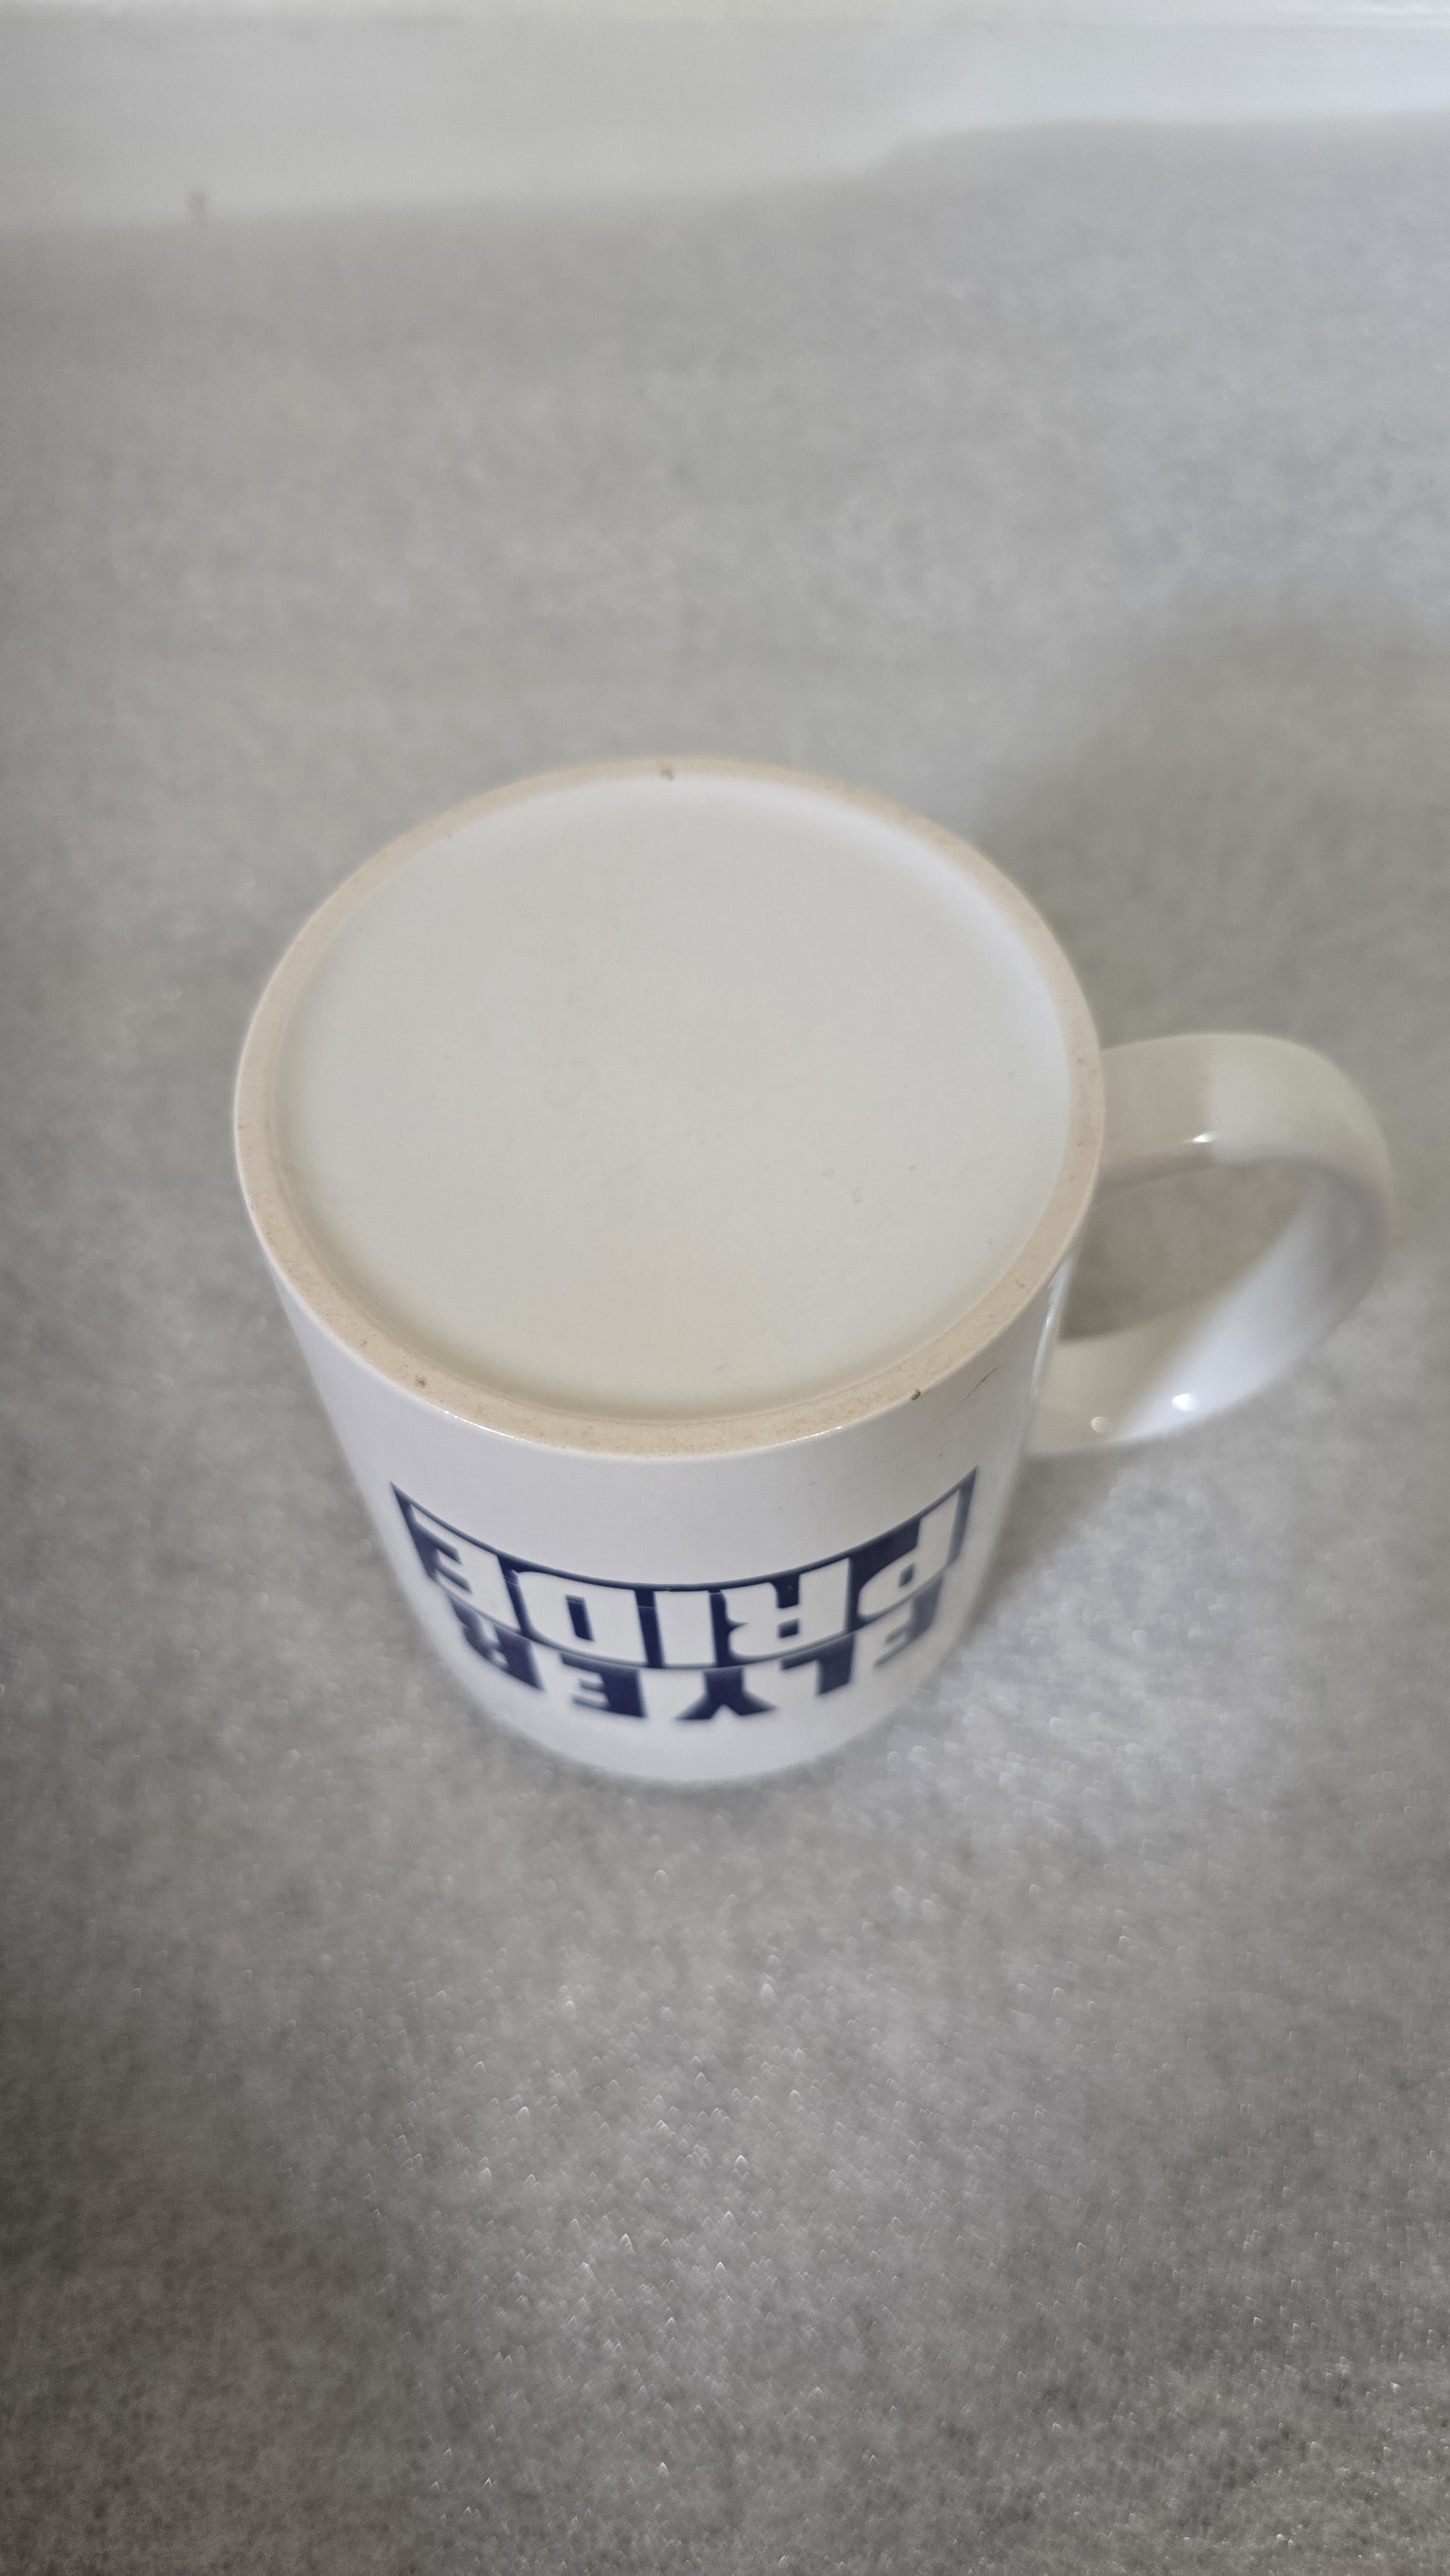mug: (193, 722, 1423, 1829)
